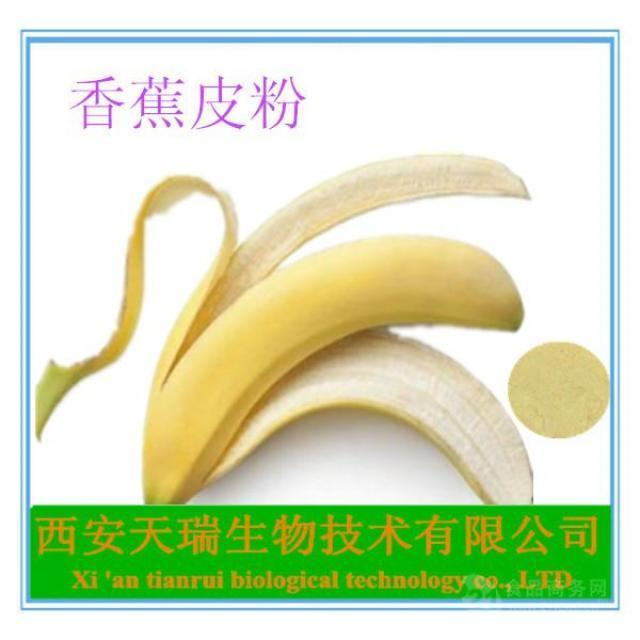banana-peel: (35, 152, 535, 505)
